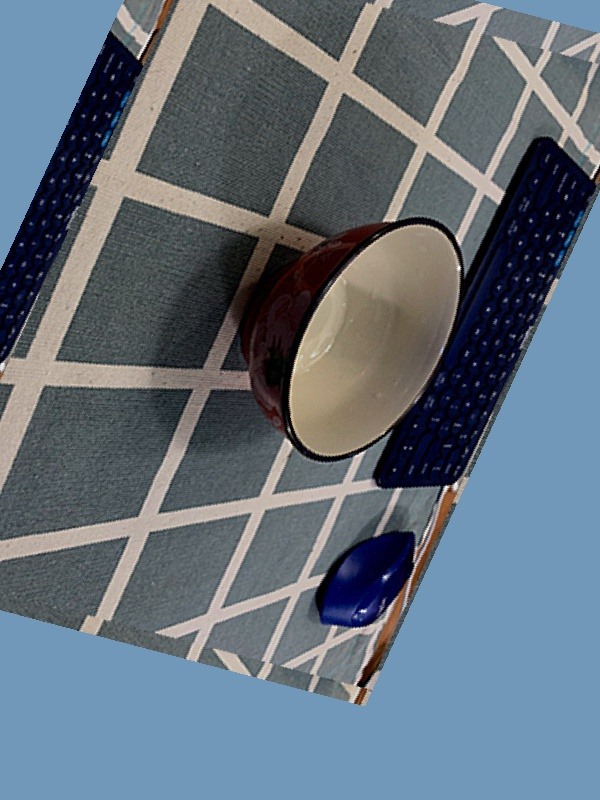bowl_small: (183, 180, 504, 488)
